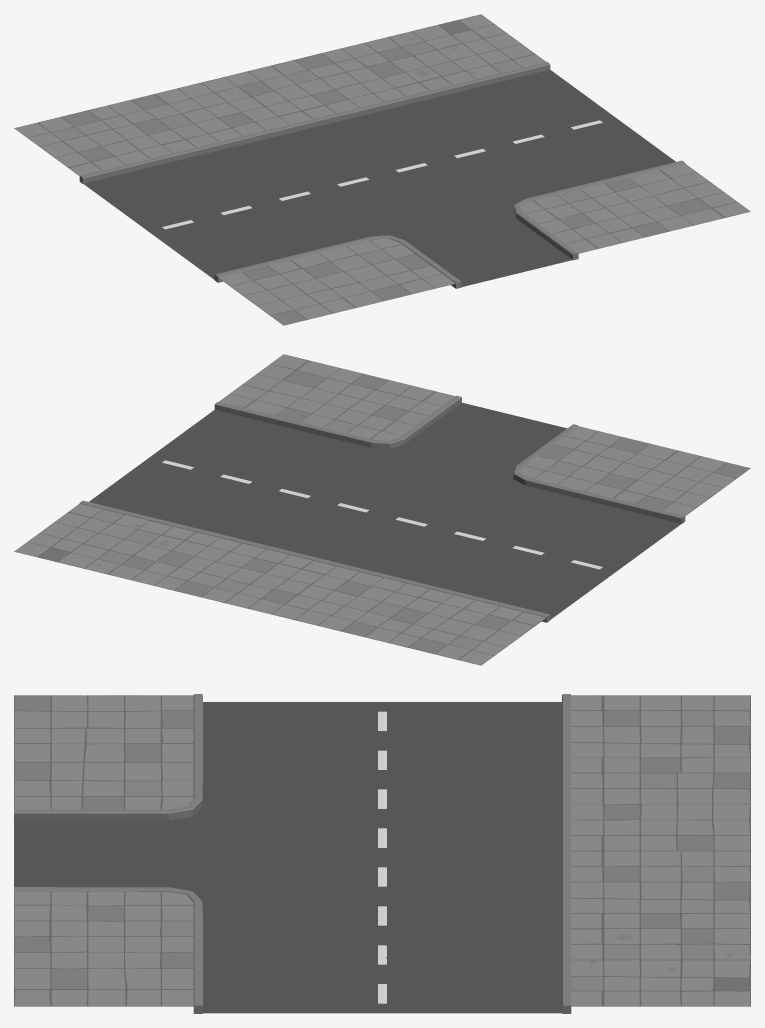
Rendered from Road_05.glb.
3 views of the same model, one above another, from view 1: azimuth 30°, elevation 25°; view 2: azimuth 150°, elevation 25°; view 3: azimuth 270°, elevation 25° (orthographic). The views are drawn at different scales.
Visible parts, largest first — view 1: Road_05; view 2: Road_05; view 3: Road_05.
Boxes of the visible parts, x1,y1,x2,y2 form: Road_05: [14, 14, 750, 325]; Road_05: [14, 354, 750, 665]; Road_05: [14, 694, 750, 1013].
Size of the model in its own units: 12 by 0.15 by 12.
Materials: 1 (1 with a texture image).
